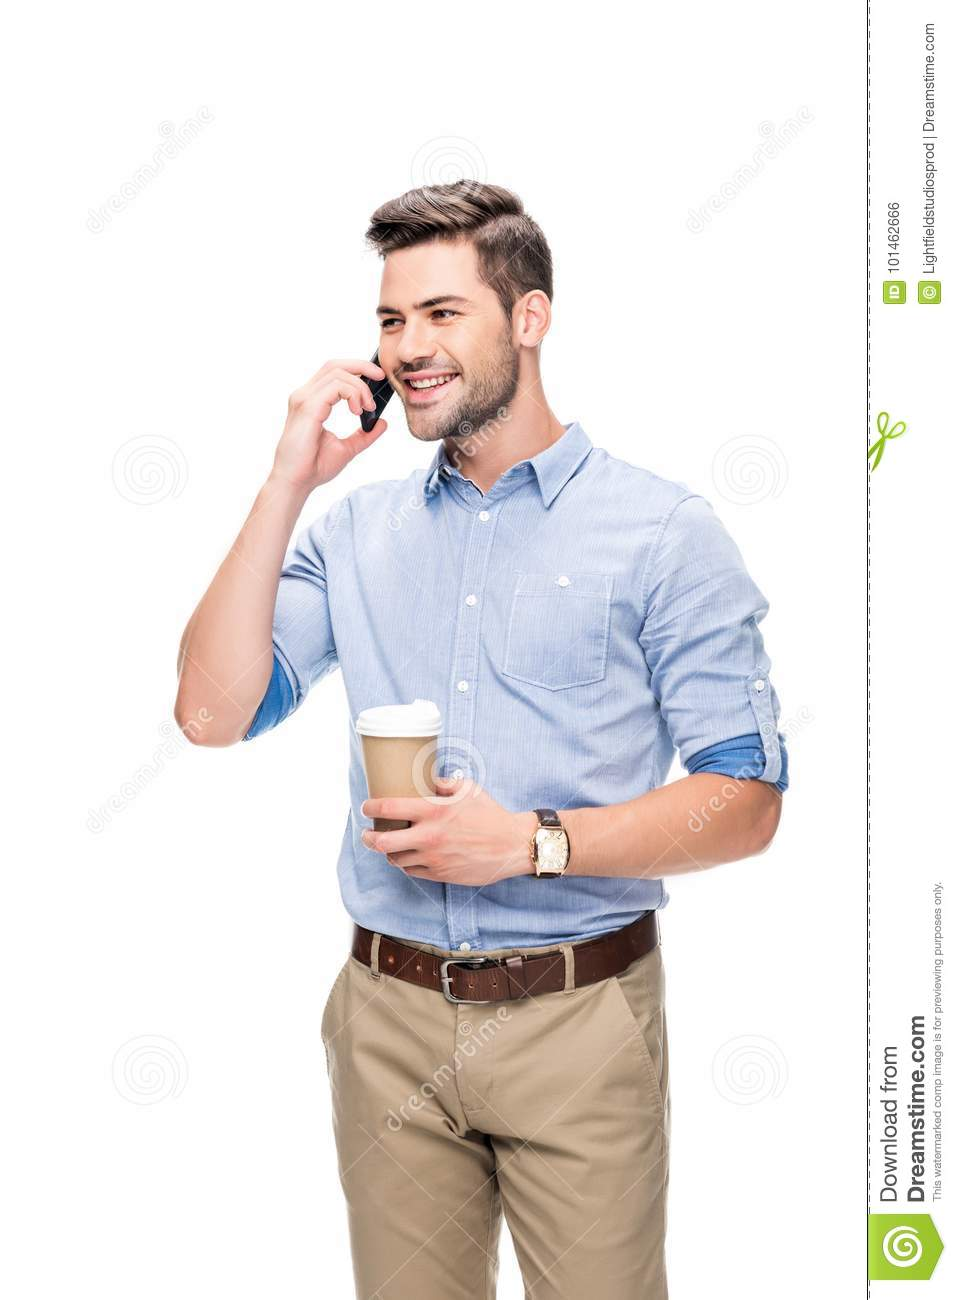phone: (356, 344, 398, 433)
talk: (271, 272, 502, 469)
